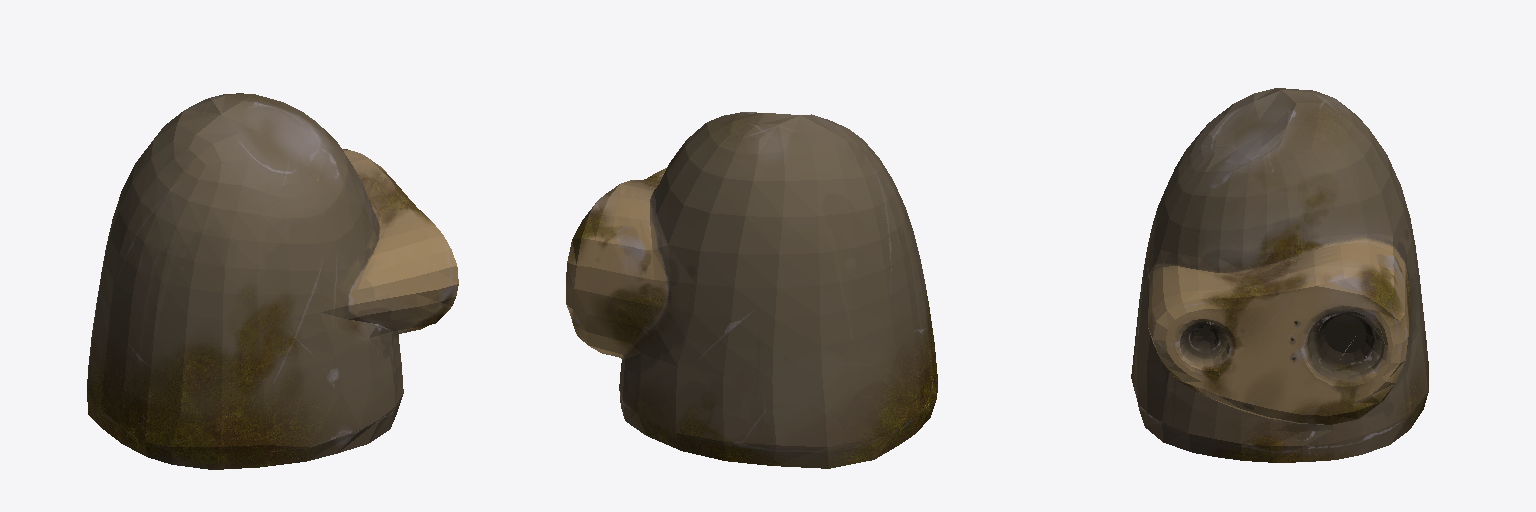
3 renders of one model, left to right at view 1: azimuth 30°, elevation 25°; view 2: azimuth 150°, elevation 25°; view 3: azimuth 270°, elevation 25°, orthographic.
Parts seen in each view (by area): view 1: Robot_Plane; view 2: Robot_Plane; view 3: Robot_Plane.
Part boxes in pixels (left/top/right/bottom): Robot_Plane: left=87, top=93, right=458, bottom=469; Robot_Plane: left=566, top=112, right=937, bottom=468; Robot_Plane: left=1131, top=88, right=1428, bottom=462.
Bounding box in the file's own units: 2.51 × 2.49 × 2.24.
Materials: 1 (1 with a texture image).